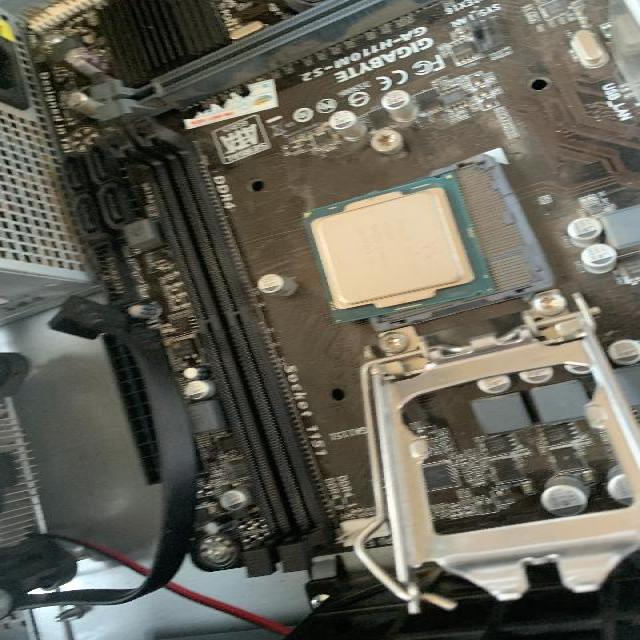CPU: (297, 170, 495, 324)
Mainboard: (88, 0, 640, 640)
